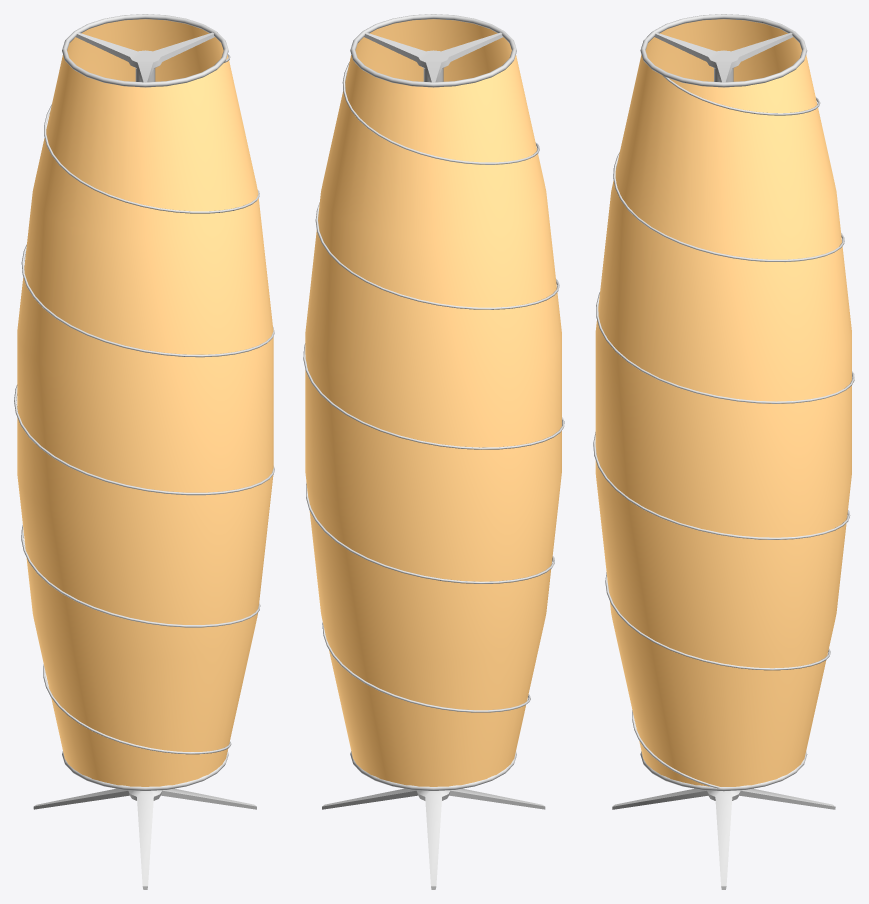
The model's file is Floor_Lamp_Tall_Elliptical.fbx.
3 renders of one model, left to right at view 1: azimuth 30°, elevation 25°; view 2: azimuth 150°, elevation 25°; view 3: azimuth 270°, elevation 25°, orthographic.
Visible parts, largest first — view 1: Floor_Lamp_Tall_Elliptical; view 2: Floor_Lamp_Tall_Elliptical; view 3: Floor_Lamp_Tall_Elliptical.
Boxes of the visible parts, box(x1,y1,x2,y2) form: Floor_Lamp_Tall_Elliptical: box(14, 14, 274, 889); Floor_Lamp_Tall_Elliptical: box(303, 14, 564, 889); Floor_Lamp_Tall_Elliptical: box(593, 14, 854, 889).
Bounding box in the file's own units: 40.34 × 134 × 40.41.
